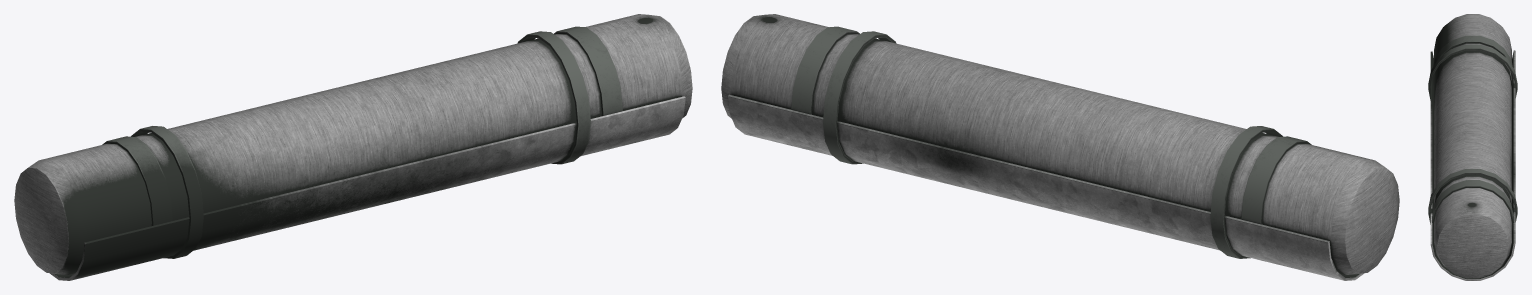
File: SM_Iron_Can.fbx
3 views of the same model, side by side, from view 1: azimuth 30°, elevation 25°; view 2: azimuth 150°, elevation 25°; view 3: azimuth 270°, elevation 25° (orthographic). The views are drawn at different scales.
Parts seen in each view (by area): view 1: SM_Iron_Can; view 2: SM_Iron_Can; view 3: SM_Iron_Can.
Part boxes in pixels (x1,y1,x2,y2): SM_Iron_Can: (14, 14, 692, 280); SM_Iron_Can: (721, 14, 1399, 280); SM_Iron_Can: (1428, 14, 1517, 280).
Bounding box in the file's own units: 295 × 55.13 × 53.47.
Materials: 1 (1 with a texture image).
